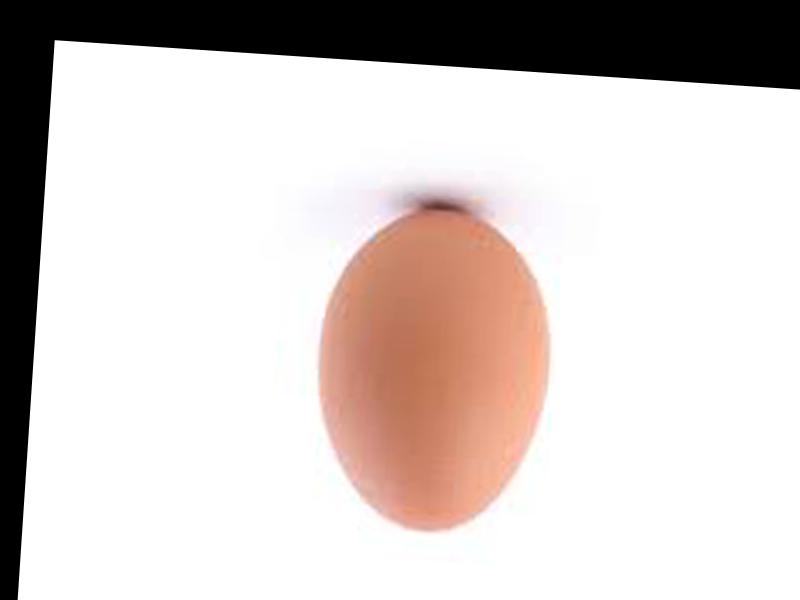Eggs: (304, 202, 555, 541)
